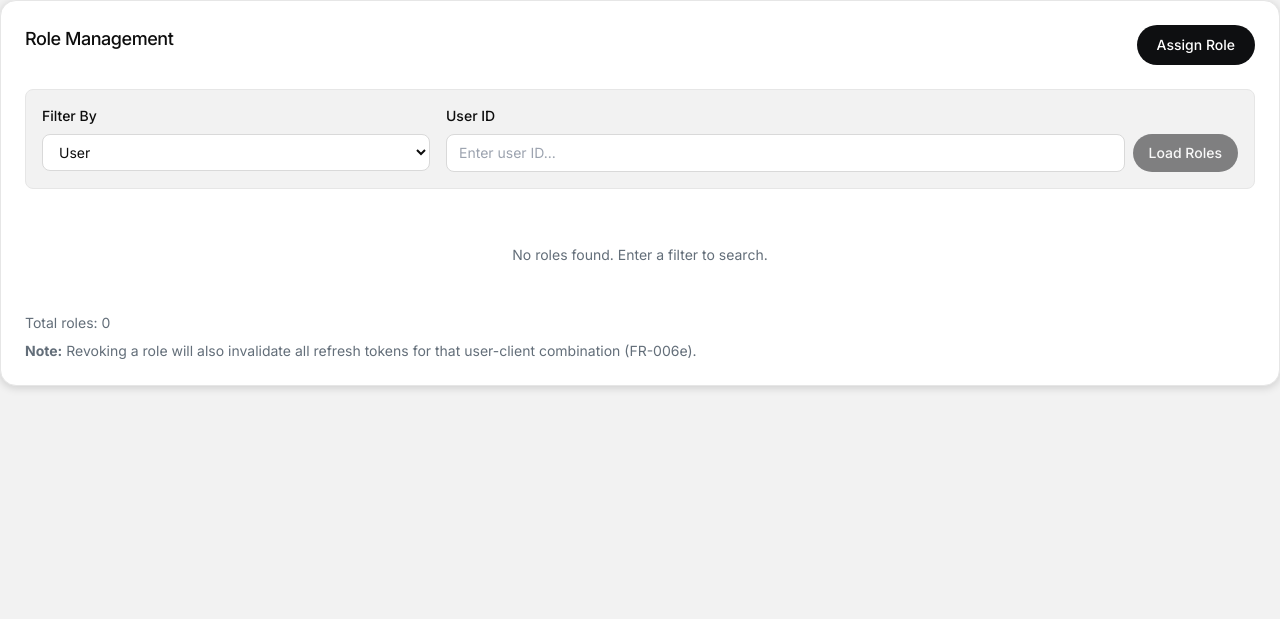
Scenario: RoleManagement Component › shows assign role form when button is clicked
This screenshot has width=1280, height=619.
Click the button "Assign Role" at point(1196, 45), box [1137,25,1255,65]
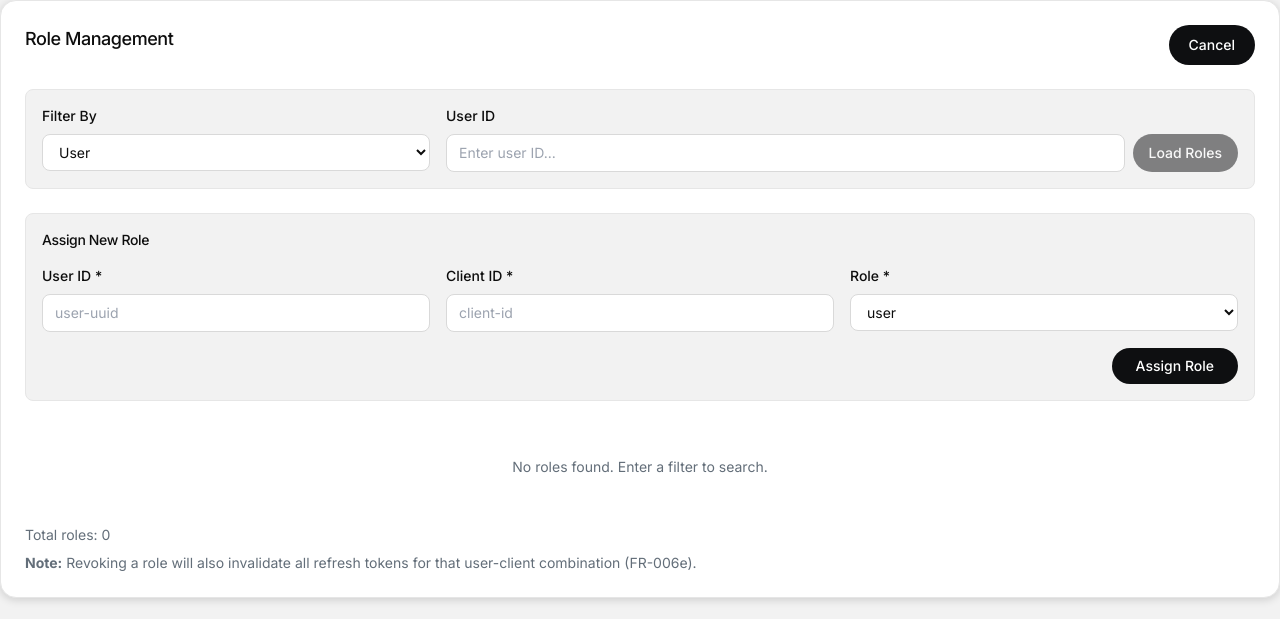
Now the heading "Assign New Role" is shown, box [42,231,149,248]
Now the field with placeholder "user-uuid" is shown, box [42,294,430,332]
Now the field with placeholder "client-id" is shown, box [446,294,834,332]
